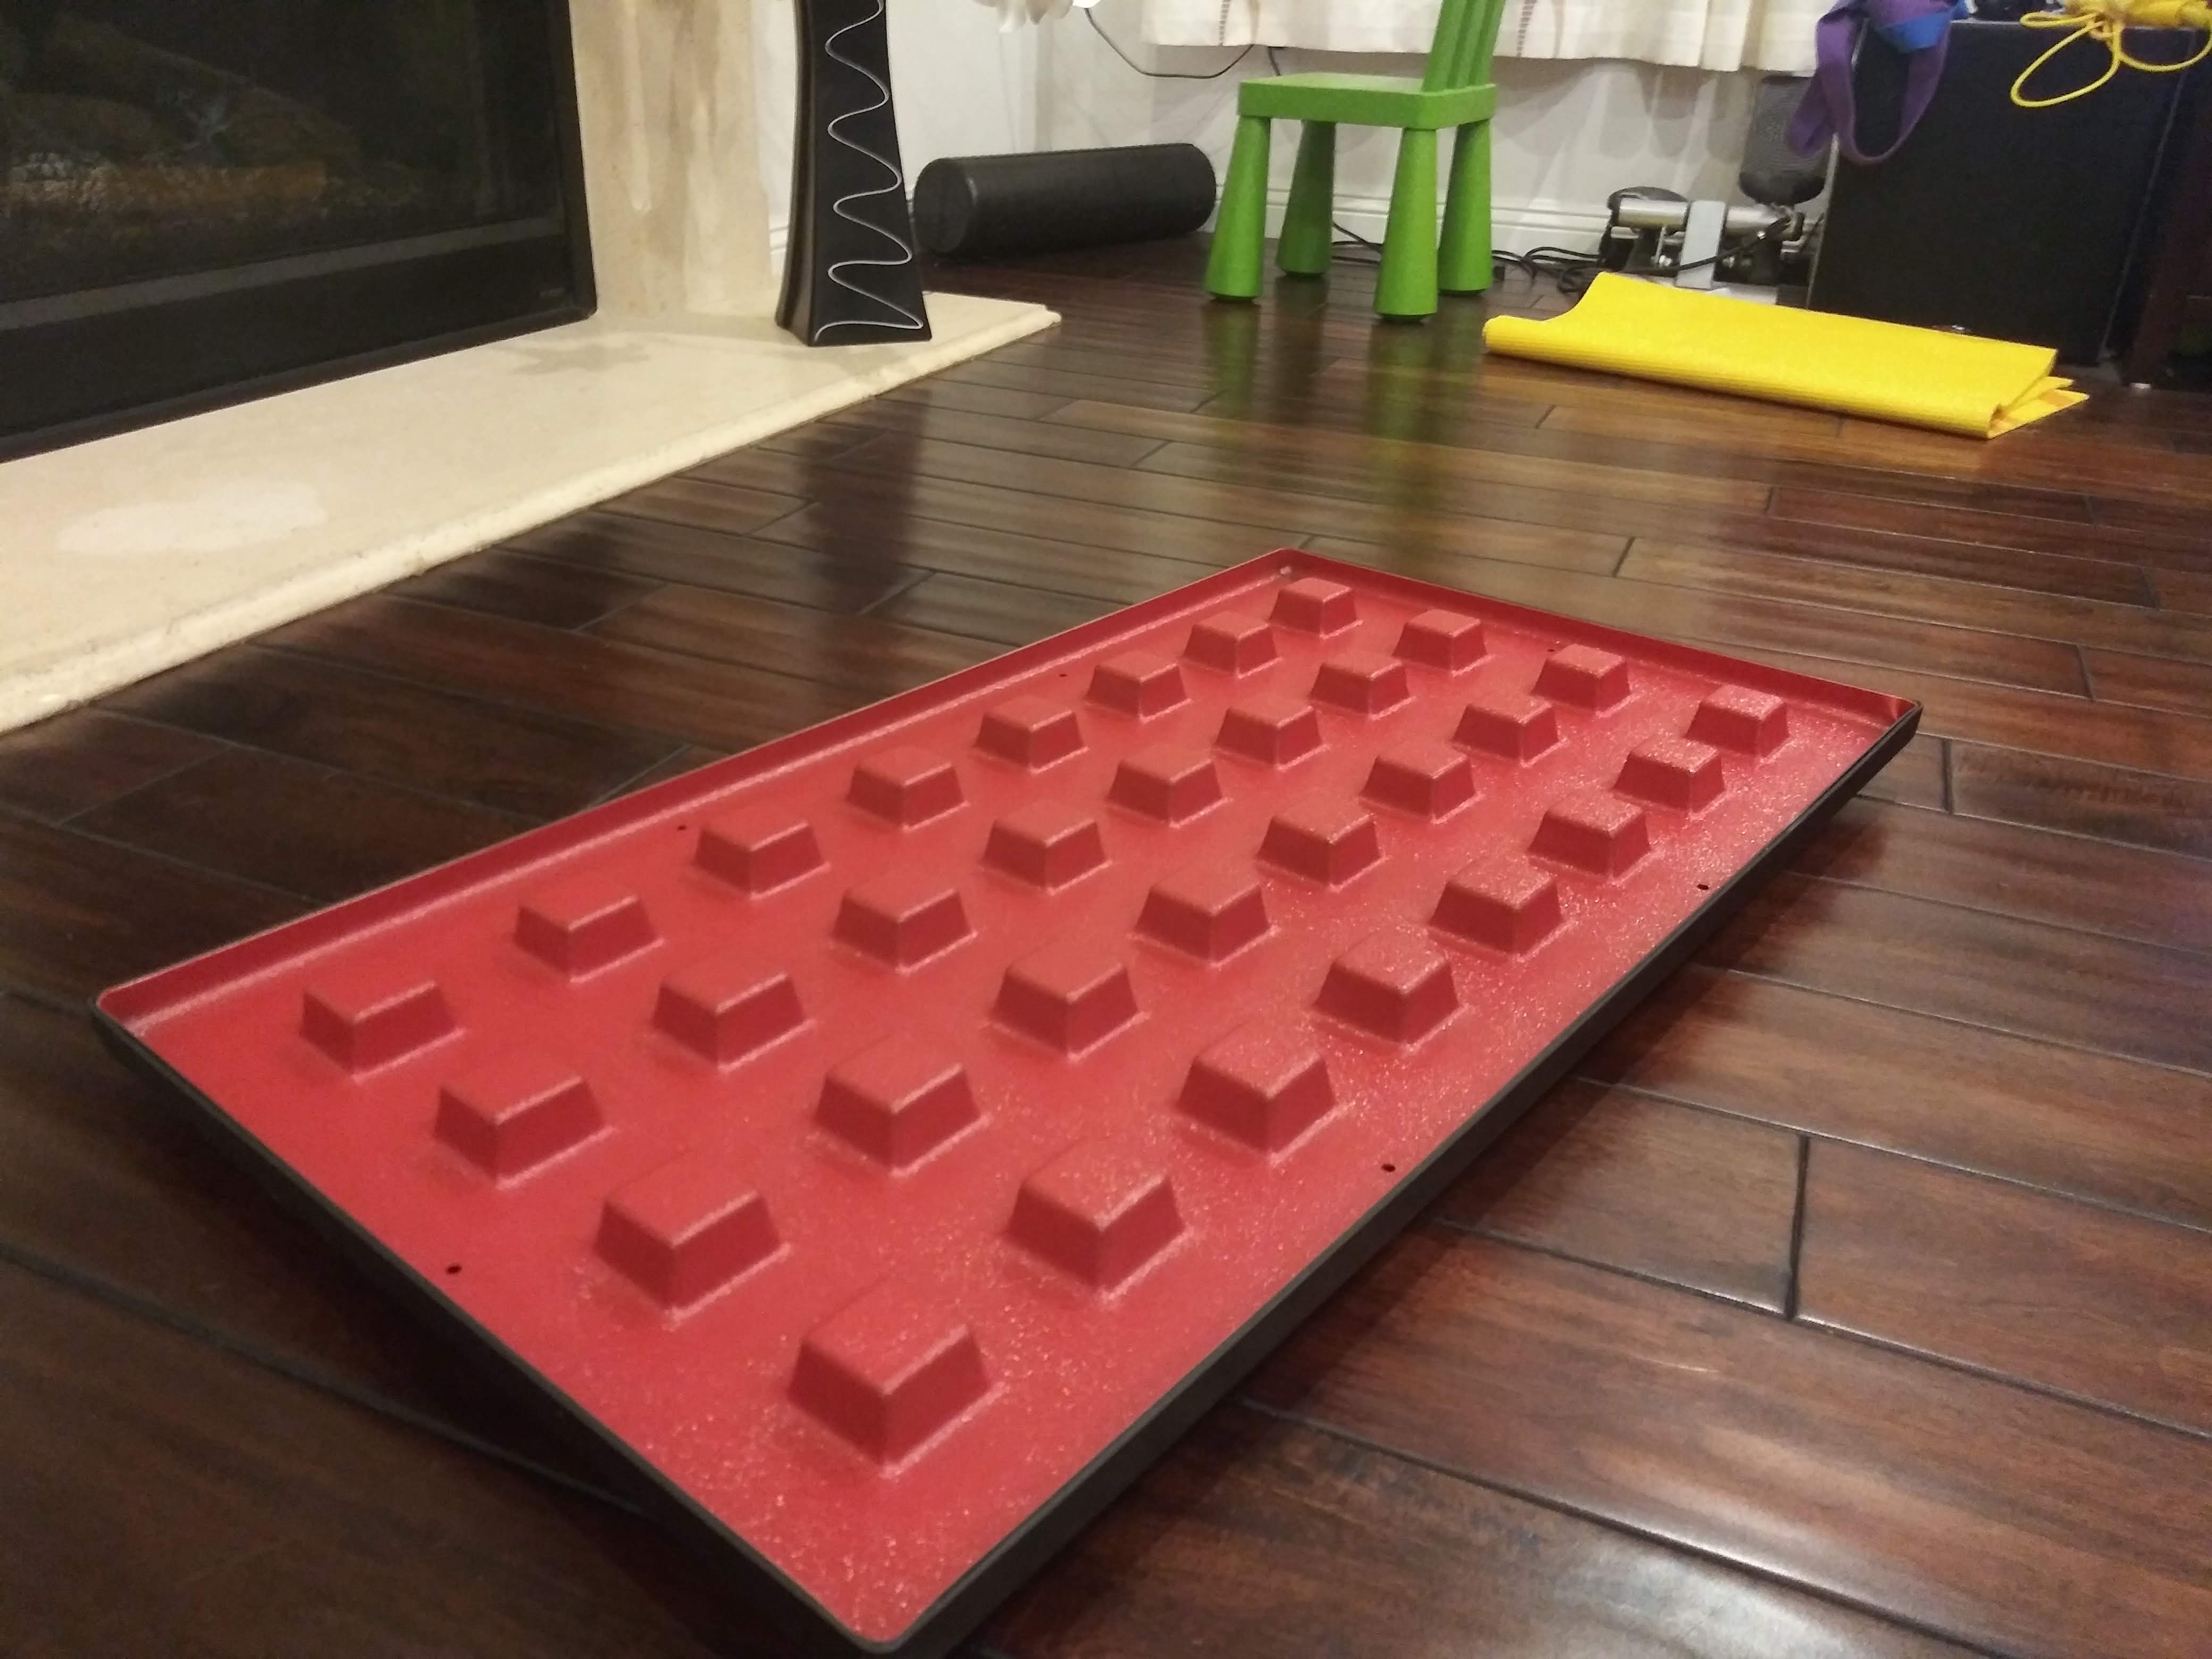red foundation: (78, 556, 1965, 1544)
